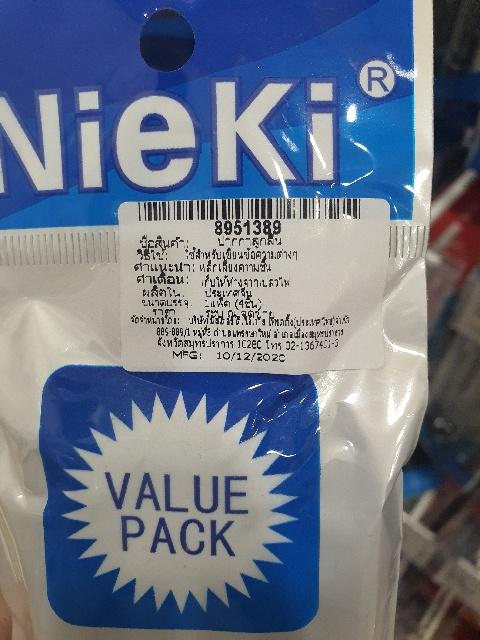Barcode: (131, 196, 369, 233)
